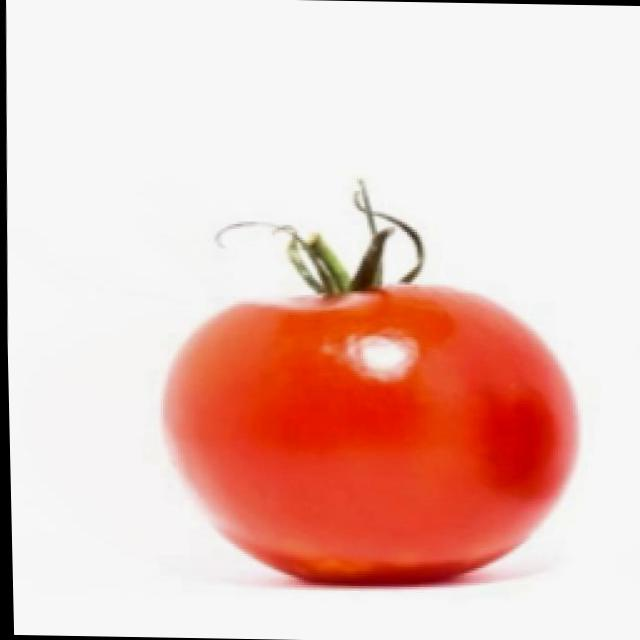tomato: (158, 280, 580, 591)
